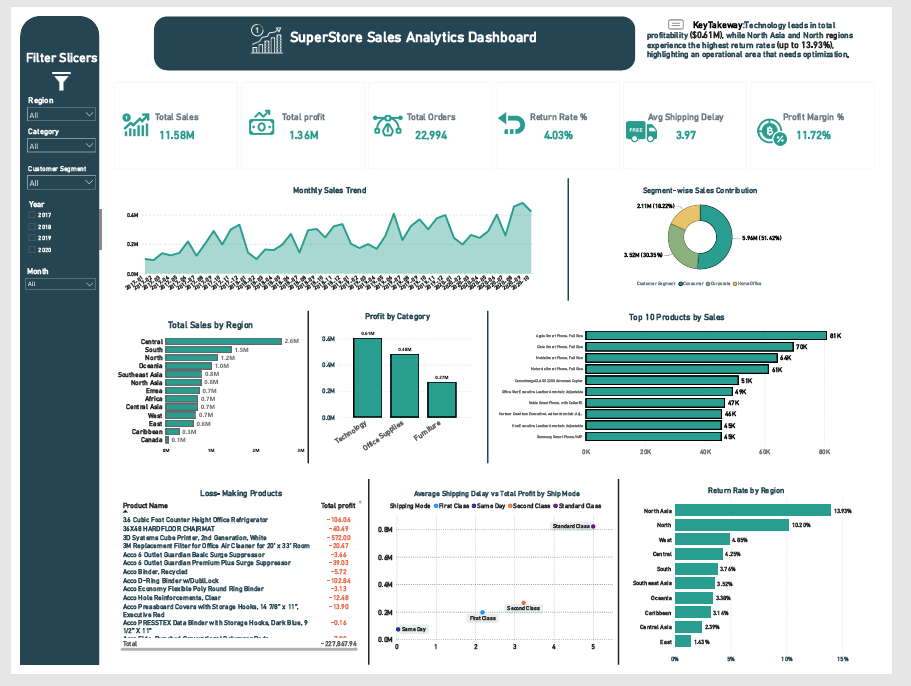

Layout of this report page (visuals, bound fields, positions):
{"tool":"powerbi","page":{"name":"SuperStore Sales_Analytics Dashboard","canvas":[2300,1730],"ordinal":3},"visuals":[{"type":"shape","box":[0,0,229.1,2001.7],"z":0},{"type":"slicer","fields":{"Values":["Orders.Region"]},"box":[9.7,206.6,213.8,85.1],"z":1},{"type":"slicer","fields":{"Values":["Orders.Category"]},"box":[9.7,291.6,213.8,80.2],"z":2},{"type":"slicer","fields":{"Values":["Orders.Customer Segment"]},"box":[9.7,391.2,213.8,92.3],"z":3},{"type":"slicer","fields":{"Values":["DateTable.Year"]},"box":[9.7,483.6,213.8,155.5],"z":4},{"type":"slicer","fields":{"Values":["DateTable.Month"]},"box":[4.9,663.4,213.8,80.2],"z":5},{"type":"textbox","box":[9.7,87.5,213.8,53.5],"z":6},{"type":"image","box":[9.7,140.9,201.7,87.5],"z":7},{"type":"shape","box":[356.3,0,1286.3,146.4],"z":8},{"type":"textbox","box":[715.1,29.3,710.3,63.5],"z":9},{"type":"image","box":[405.2,0,512.6,122],"z":10},{"type":"shape","box":[254.5,185.6,1344.1,243.9],"z":11},{"type":"cardVisual","fields":{"Data":["Table (2).Total Sales","Table (2).Total profit","Table (2).Total Orders","Table (2).Return Rate %","Table (2).Avg Shipping Delay","Table (2).Profit Margin %"]},"box":[229.9,155.6,2068.9,272.3],"z":12},{"type":"image","box":[212.3,171.7,436.5,83.5],"z":13},{"type":"image","box":[648.7,162.2,198,85.9],"z":14},{"type":"image","box":[913.5,169.3,336.3,90.6],"z":15},{"type":"image","box":[1183,174.1,484.2,78.7],"z":16},{"type":"image","box":[1495.4,174.1,527.1,81.1],"z":17},{"type":"image","box":[1955.8,176.5,293.4,78.7],"z":18},{"type":"shape","box":[229,436.5,2058.3,324.4],"z":19},{"type":"lineChart","title":"Monthly Sales Trend","fields":{"Y":["Table (2).Total Sales"],"Category":["DateTable.YearMonth"]},"box":[282.8,438.3,1102.8,336],"z":20},{"type":"shape","box":[238.6,786.5,2063.4,419.7],"z":21},{"type":"clusteredBarChart","fields":{"Category":["Orders.Region"],"Y":["Table (2).Total Sales"]},"box":[252.7,809.9,511.2,367.6],"z":22},{"type":"shape","box":[618.6,786.5,300.4,419.7],"z":23},{"type":"clusteredColumnChart","title":"Categories Wise-Profit","fields":{"Y":["Table (2).Total profit"],"Category":["Orders.Category"]},"box":[801.3,786.9,410.7,390.6],"z":24},{"type":"clusteredBarChart","title":"Top 10 Trending Products by Total Sales","fields":{"Category":["Orders.Product Name"],"Y":["Table (2).Total Sales"]},"box":[1264.5,819.2,986.2,389.7],"z":25},{"type":"shape","box":[1082.5,790.9,300.4,415.3],"z":26},{"type":"shape","box":[1243.7,430.5,300.3,326.9],"z":27},{"type":"donutChart","title":"Segment-wise Sales Contribution","fields":{"Category":["Orders.Customer Segment"],"Y":["Table (2).Total Sales"]},"box":[1439,444.1,840.4,312],"z":28},{"type":"shape","box":[233.4,1227.2,2065.4,502.2],"z":30},{"type":"tableEx","title":"Loss-Making Products","fields":{"Values":["Orders.Product Name","Table (2).Total profit"]},"box":[260,1228.3,658.3,436.5],"z":31},{"type":"shape","box":[772.8,1235.5,314.8,493.7],"z":32},{"type":"scatterChart","title":"Average Shipping Delay vs Total Profit by Ship Mode","fields":{"X":["Table (2).Avg Shipping Delay"],"Y":["Sum(Orders.Profit)"],"Series":["Orders.Shipping Mode"],"Category":["Orders.Shipping Mode"]},"box":[954,1230.7,644,434.1],"z":33},{"type":"shape","box":[1440.6,1235.5,312.4,493.7],"z":34},{"type":"clusteredBarChart","title":"Return Rate by Region","fields":{"Category":["Orders.Region"],"Y":["Table (2).Return rate %"]},"box":[1612.7,1228.3,618.6,437.4],"z":35},{"type":"textbox","box":[1667.2,4.8,632,138.3],"z":36},{"type":"image","box":[1640.9,0,219.4,45.3],"z":37}]}

Visuals, with their boxes in screenshot pixels (x1, y1, x2, y2), scaled from the page's 2300x1730 canvas onto the 911x686 screenshot:
shape: crop(0, 0, 91, 685)
slicer - Orders.Region: crop(4, 82, 89, 116)
slicer - Orders.Category: crop(4, 116, 89, 147)
slicer - Orders.Customer Segment: crop(4, 155, 89, 192)
slicer - DateTable.Year: crop(4, 192, 89, 253)
slicer - DateTable.Month: crop(2, 263, 87, 295)
textbox: crop(4, 35, 89, 56)
image: crop(4, 56, 84, 91)
shape: crop(141, 0, 651, 58)
textbox: crop(283, 12, 565, 37)
image: crop(160, 0, 364, 48)
shape: crop(101, 74, 633, 170)
cardVisual - Table (2).Total Sales x Table (2).Total profit: crop(91, 62, 910, 170)
image: crop(84, 68, 257, 101)
image: crop(257, 64, 335, 98)
image: crop(362, 67, 495, 103)
image: crop(469, 69, 660, 100)
image: crop(592, 69, 801, 101)
image: crop(775, 70, 891, 101)
shape: crop(91, 173, 906, 302)
"Monthly Sales Trend" lineChart: crop(112, 174, 549, 307)
shape: crop(95, 312, 910, 478)
clusteredBarChart - Orders.Region x Table (2).Total Sales: crop(100, 321, 303, 467)
shape: crop(245, 312, 364, 478)
"Categories Wise-Profit" clusteredColumnChart: crop(317, 312, 480, 467)
"Top 10 Trending Products by Total Sales" clusteredBarChart: crop(501, 325, 891, 479)
shape: crop(429, 314, 548, 478)
shape: crop(493, 171, 612, 300)
"Segment-wise Sales Contribution" donutChart: crop(570, 176, 903, 300)
shape: crop(92, 487, 910, 685)
"Loss-Making Products" tableEx: crop(103, 487, 364, 660)
shape: crop(306, 490, 431, 685)
"Average Shipping Delay vs Total Profit by Ship Mode" scatterChart: crop(378, 488, 633, 660)
shape: crop(571, 490, 694, 685)
"Return Rate by Region" clusteredBarChart: crop(639, 487, 884, 661)
textbox: crop(660, 2, 910, 57)
image: crop(650, 0, 737, 18)
